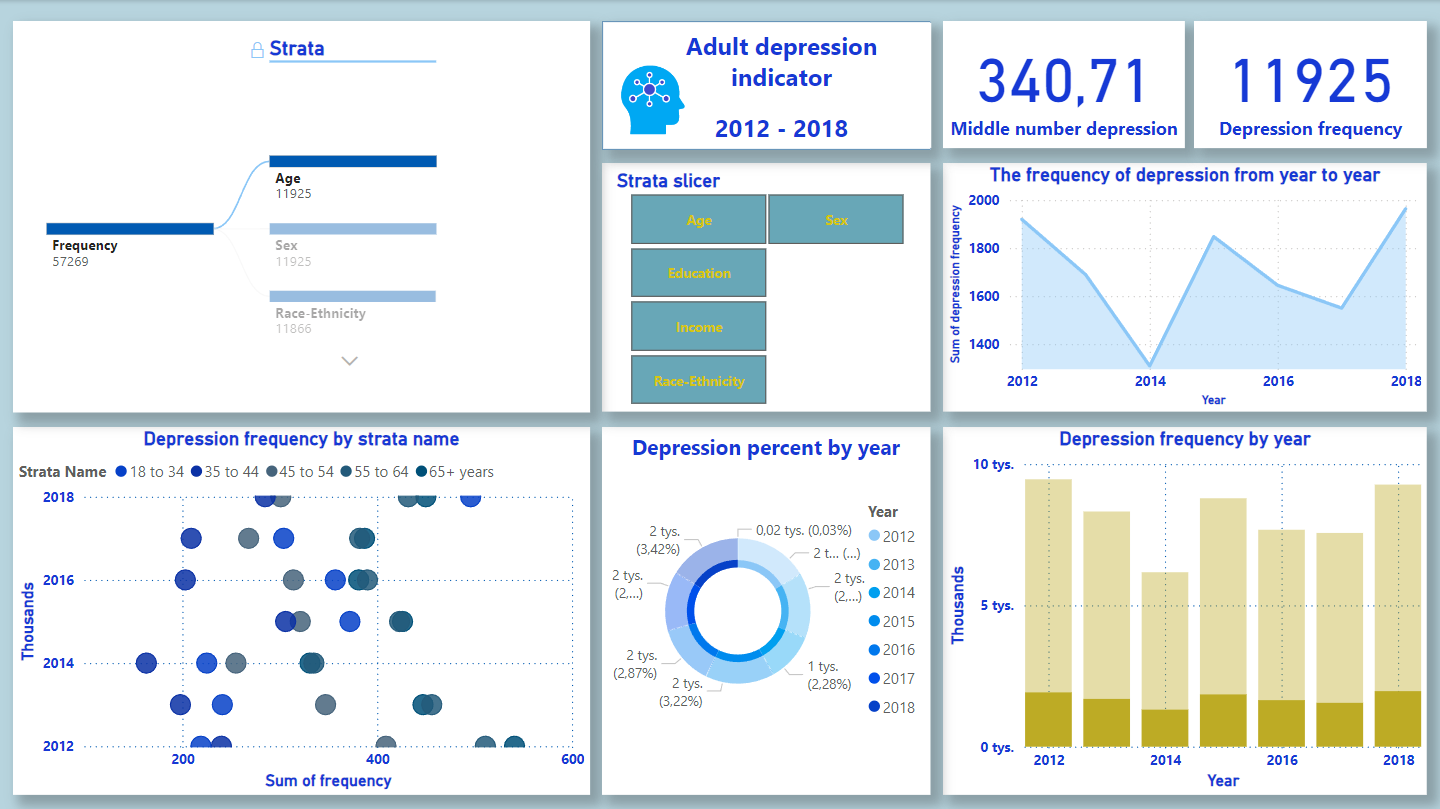

Layout of this report page (visuals, bound fields, positions):
{"tool":"powerbi","page":{"name":"Strona 1","canvas":[1280,720],"ordinal":0},"visuals":[{"type":"scatterChart","title":"Depression frequency by strata name","fields":{"X":["Sum(Adult-depression-lghc-indicator-24.Frequency)"],"Y":["Adult-depression-lghc-indicator-24.Year"],"Size":["CountNonNull(Confidence Interval Summary.Percent)"],"Series":["Adult-depression-lghc-indicator-24.Strata Name"]},"box":[11.6,379.6,512.9,327.1],"z":0},{"type":"lineStackedColumnComboChart","title":"Depression frequency by year","fields":{"Category":["Adult-depression-lghc-indicator-24.Year"],"Y":["Sum(Adult-depression-lghc-indicator-24.Frequency)"]},"box":[838.2,379.6,430.2,327.1],"z":1000},{"type":"donutChart","fields":{"Category":["Adult-depression-lghc-indicator-24.Year"],"Y":["CountNonNull(Confidence Interval Summary.Percent)","Sum(Adult-depression-lghc-indicator-24.Frequency)"]},"box":[535.1,379.6,292.4,327.1],"z":2000},{"type":"textbox","box":[556.4,379.6,258.7,36.4],"z":3000},{"type":"areaChart","title":"The frequency of depression from year to year","fields":{"Y":["Sum(Adult-depression-lghc-indicator-24.Frequency)"],"Category":["Adult-depression-lghc-indicator-24.Year"]},"box":[838.2,144.9,430.2,221.3],"z":4000},{"type":"slicer","fields":{"Values":["Adult-depression-lghc-indicator-24.Strata"]},"box":[535.1,144.9,292.4,221.3],"z":5000},{"type":"decompositionTreeVisual","fields":{"Analyze":["Sum(Adult-depression-lghc-indicator-24.Frequency)"],"ExplainBy":["Adult-depression-lghc-indicator-24.Strata"]},"box":[11.6,18.7,512.9,347.6],"z":6000},{"type":"shape","box":[535.1,18.7,292.4,114.7],"z":7000},{"type":"textbox","box":[561.8,20.4,265.8,111.1],"z":8000},{"type":"image","box":[544.9,53.3,71.1,71.1],"z":9000},{"type":"card","fields":{"Values":["Avg(Adult-depression-lghc-indicator-24.Frequency)"]},"box":[838.2,18.7,215.1,112.9],"z":10000},{"type":"card","fields":{"Values":["Sum(Adult-depression-lghc-indicator-24.Frequency)"]},"box":[1061.3,18.7,207.1,112.9],"z":11000}]}

Visuals, with their boxes in screenshot pixels (x1, y1, x2, y2), scaled from the page's 1280x720 canvas onto the 1440x809 screenshot:
"Depression frequency by strata name" scatterChart: crop(13, 427, 590, 794)
"Depression frequency by year" lineStackedColumnComboChart: crop(943, 427, 1427, 794)
donutChart - Adult-depression-lghc-indicator-24.Year x CountNonNull(Confidence Interval Summary.Percent): crop(602, 427, 931, 794)
textbox: crop(626, 427, 917, 467)
"The frequency of depression from year to year" areaChart: crop(943, 163, 1427, 411)
slicer - Adult-depression-lghc-indicator-24.Strata: crop(602, 163, 931, 411)
decompositionTreeVisual - Sum(Adult-depression-lghc-indicator-24.Frequency) x Adult-depression-lghc-indicator-24.Strata: crop(13, 21, 590, 412)
shape: crop(602, 21, 931, 150)
textbox: crop(632, 23, 931, 148)
image: crop(613, 60, 693, 140)
card - Avg(Adult-depression-lghc-indicator-24.Frequency): crop(943, 21, 1185, 148)
card - Sum(Adult-depression-lghc-indicator-24.Frequency): crop(1194, 21, 1427, 148)
